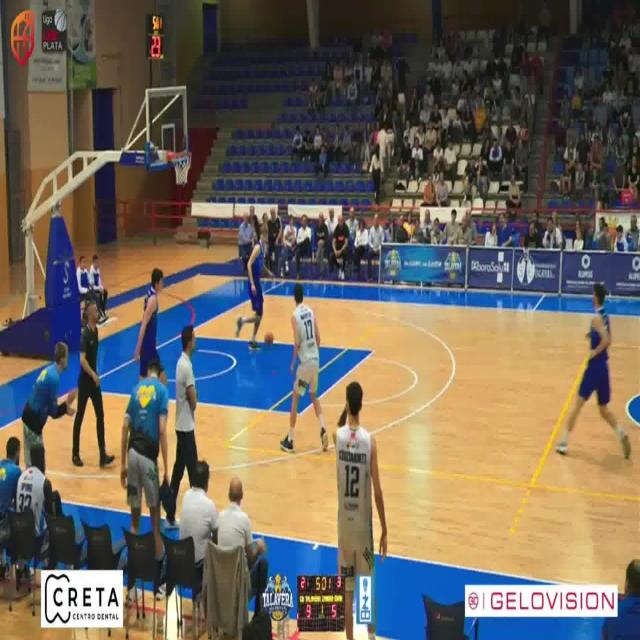ball: (264, 331, 274, 345)
basket: (166, 149, 191, 184)
bench person: (334, 382, 388, 640), (120, 359, 168, 561), (21, 341, 76, 467), (166, 324, 197, 525)
player: (557, 281, 632, 459), (280, 281, 329, 452), (235, 222, 272, 350), (134, 267, 163, 377)
referee: (71, 301, 114, 467)
